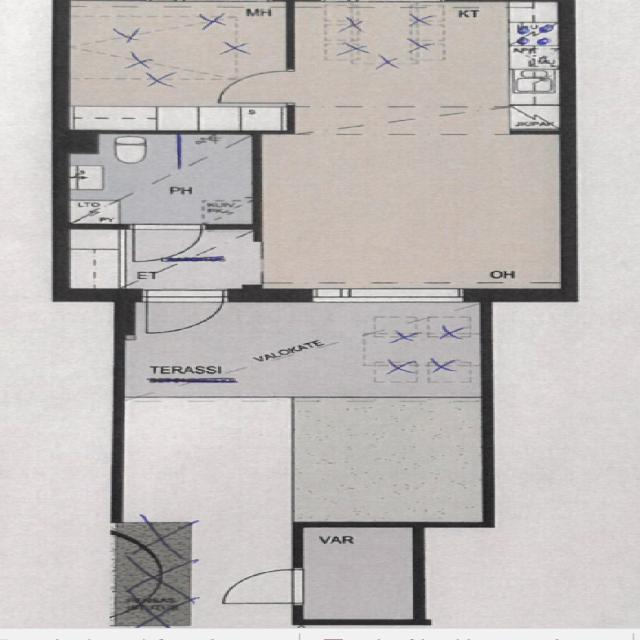door: (147, 288, 222, 338), (221, 570, 303, 603), (134, 223, 202, 261), (220, 72, 295, 102)
